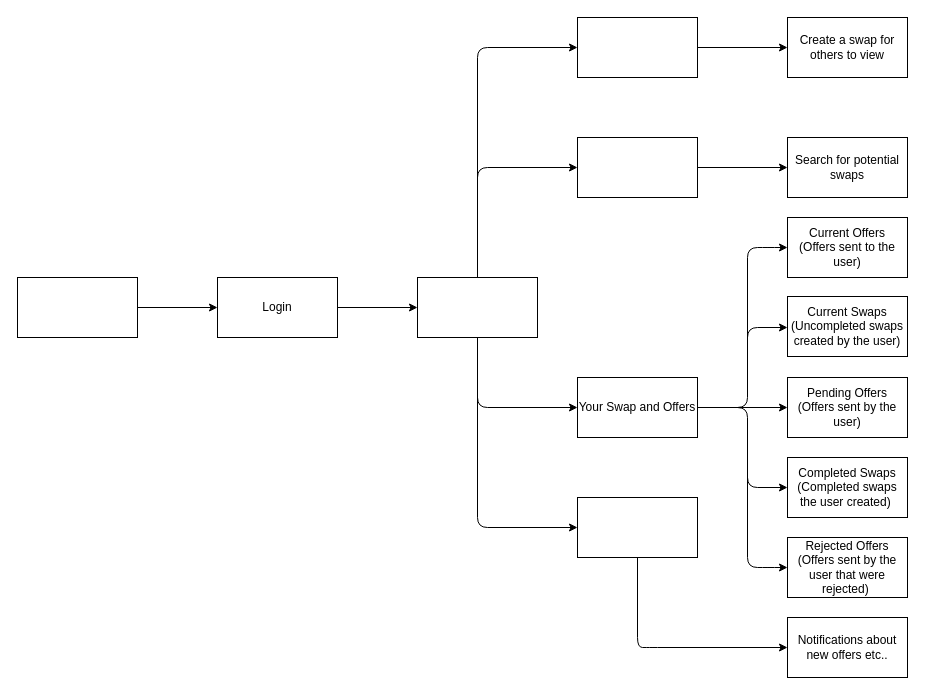
Image size: 925x695. Some labels were removed from this diagram. Each missing label, with the centre of its shape:
"Create Swap Page" belongs at [637,47].
"Home" belongs at [477,307].
"Marketplace Page" belongs at [637,167].
"Notifications" belongs at [637,527].
"Register" belongs at [77,307].
